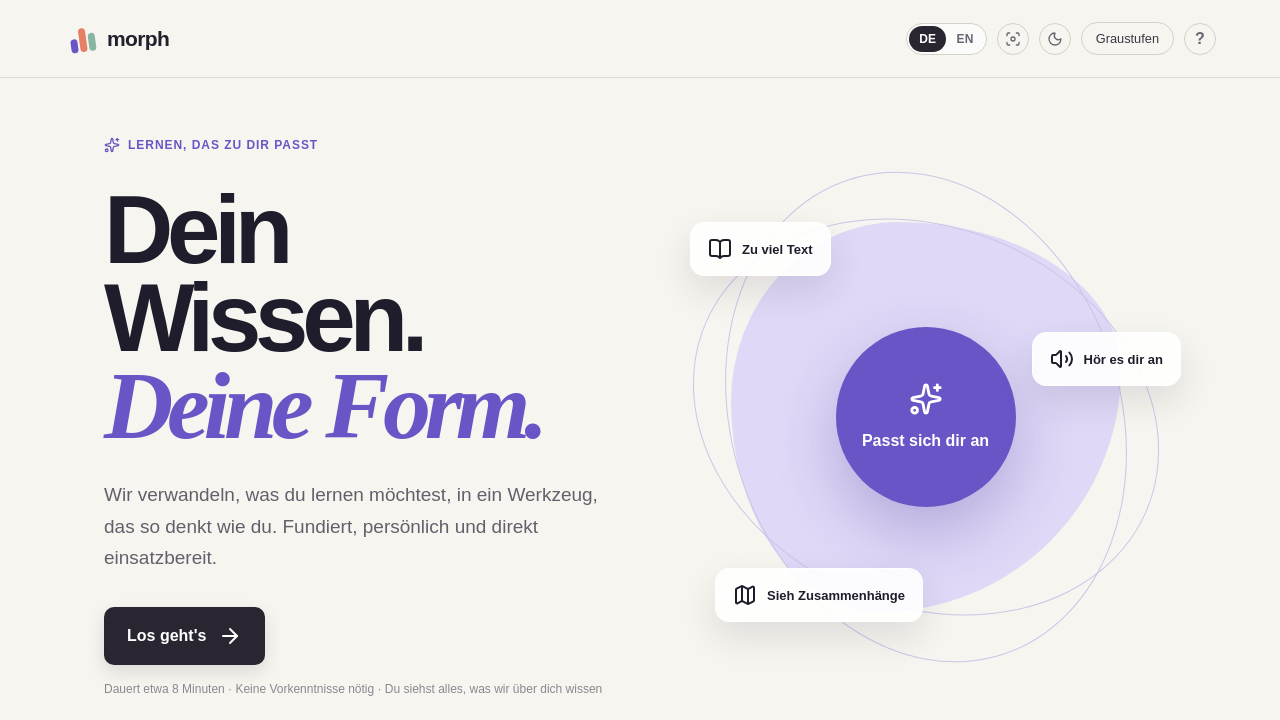
it: App › switches the whole site to dark mode and remembers it
Step 1. Click the button named "Zum dunklen Modus wechseln" → (1055, 38), box x1=1039 y1=22 x2=1071 y2=54
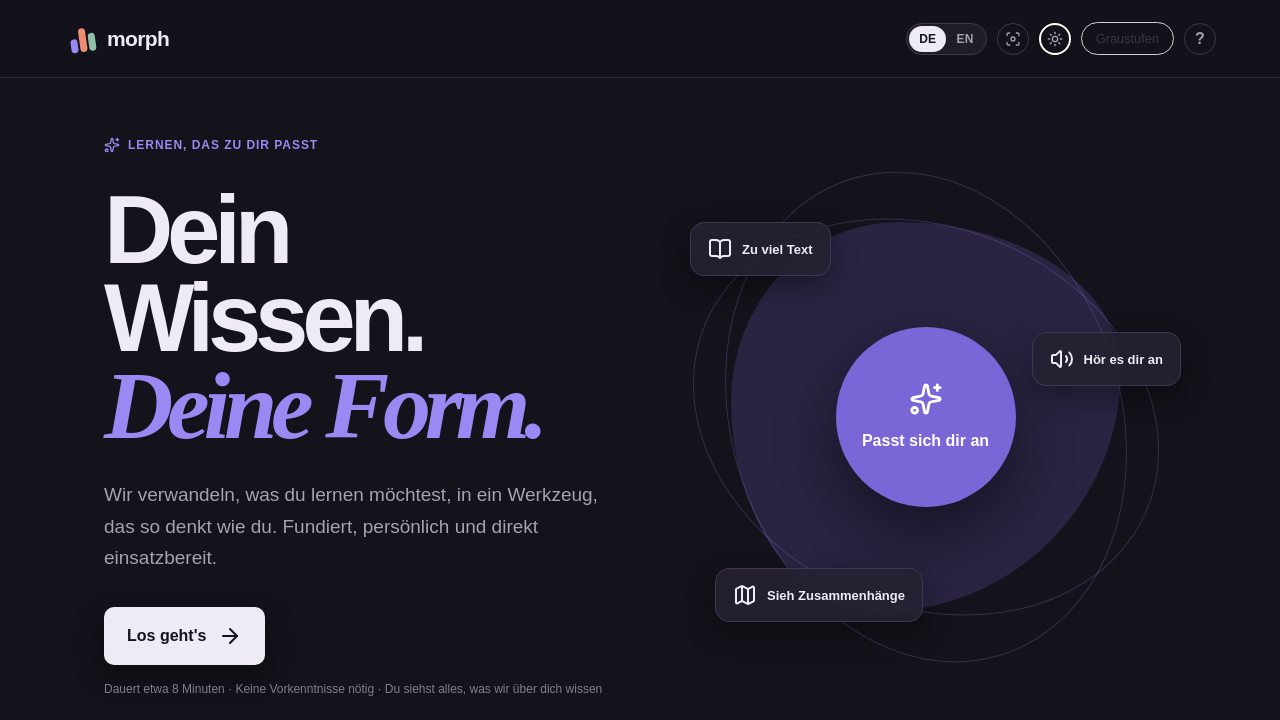
Expected: the button named "Zum hellen Modus wechseln" is shown, x1=1039 y1=22 x2=1071 y2=54
